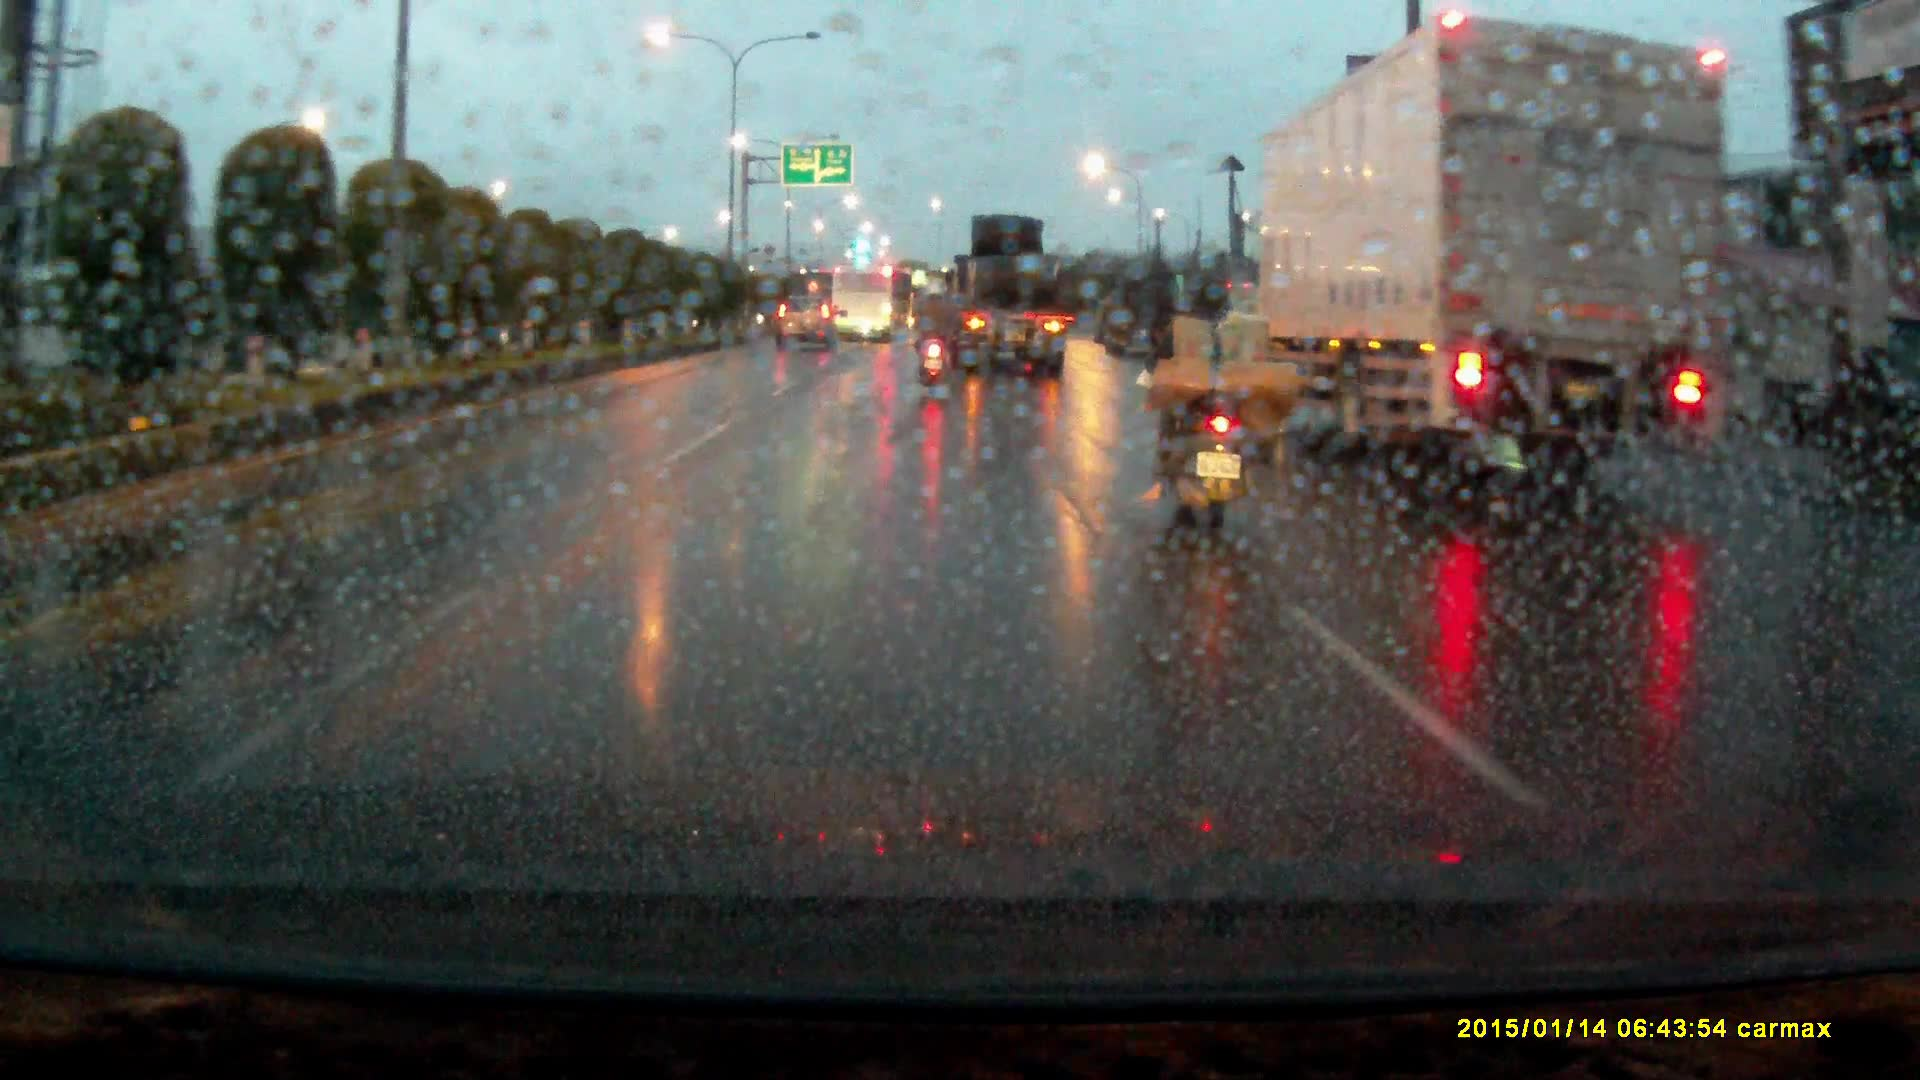rider: (1143, 253, 1305, 551), (913, 288, 955, 389)
vehicle: (1250, 23, 1735, 469), (935, 215, 1066, 376), (832, 267, 894, 342), (775, 286, 839, 347)
